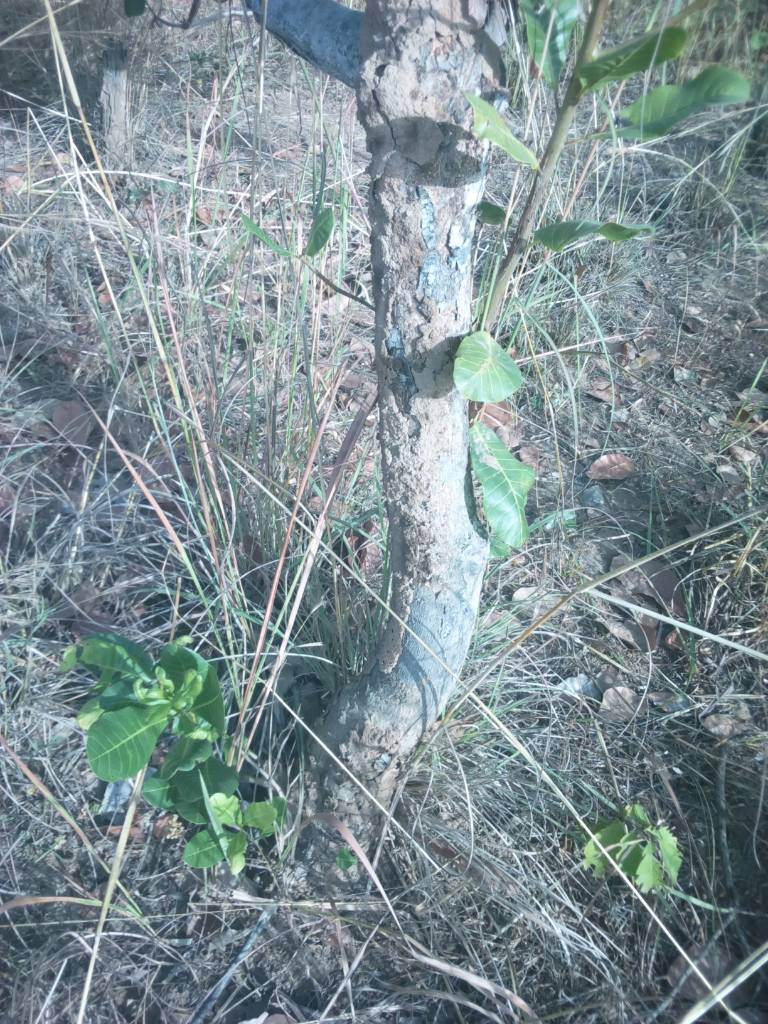Termites: (375, 66, 472, 682)
